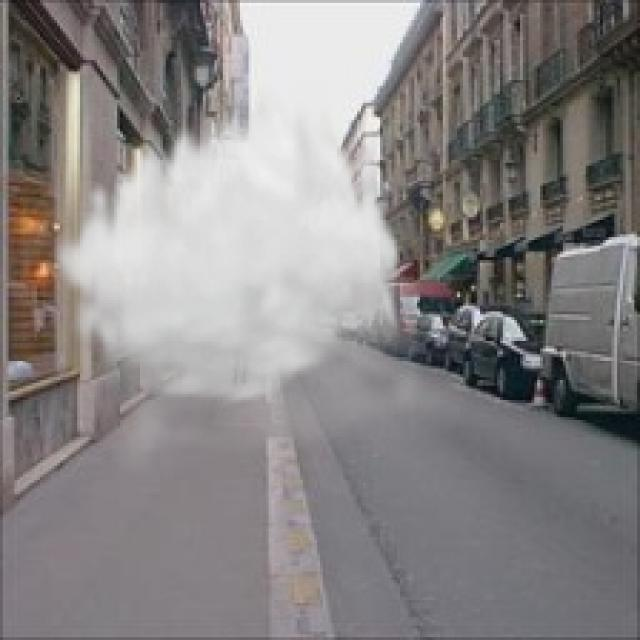Smoke: (52, 80, 477, 483)
